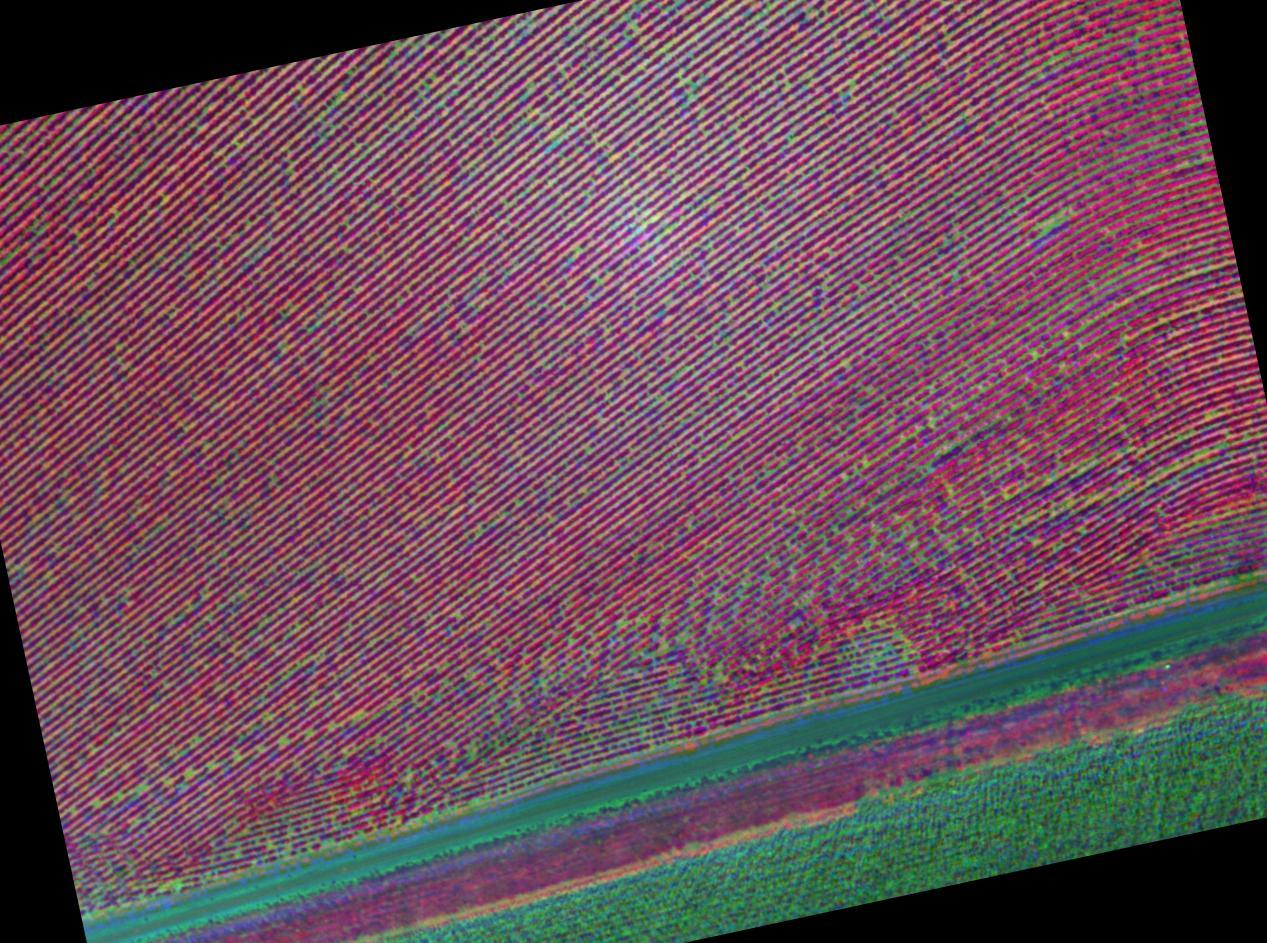dc: (1044, 218, 1057, 227), (279, 344, 288, 352), (616, 622, 625, 627)
